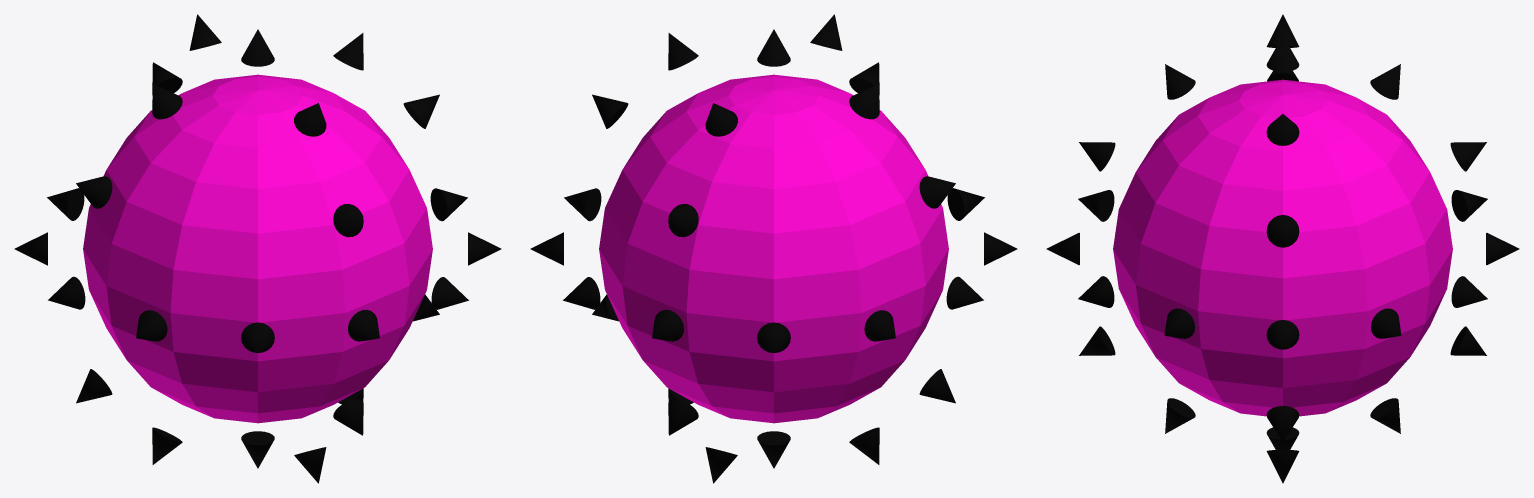
The model's file is Planeta_1.fbx.
3 views of the same model, side by side, from view 1: azimuth 30°, elevation 25°; view 2: azimuth 150°, elevation 25°; view 3: azimuth 270°, elevation 25° (orthographic). The views are drawn at different scales.
Parts seen in each view (by area): view 1: Planeta, Pinchos.001; view 2: Planeta, Pinchos.001; view 3: Planeta, Pinchos.001.
Part boxes in pixels (left/top/right/bottom): Planeta: left=83, top=74, right=432, bottom=423; Pinchos.001: left=14, top=14, right=501, bottom=483; Planeta: left=599, top=74, right=948, bottom=423; Pinchos.001: left=530, top=14, right=1017, bottom=483; Planeta: left=1113, top=79, right=1452, bottom=416; Pinchos.001: left=1046, top=14, right=1519, bottom=483.
Bounding box in the file's own units: 686 × 686 × 690.
